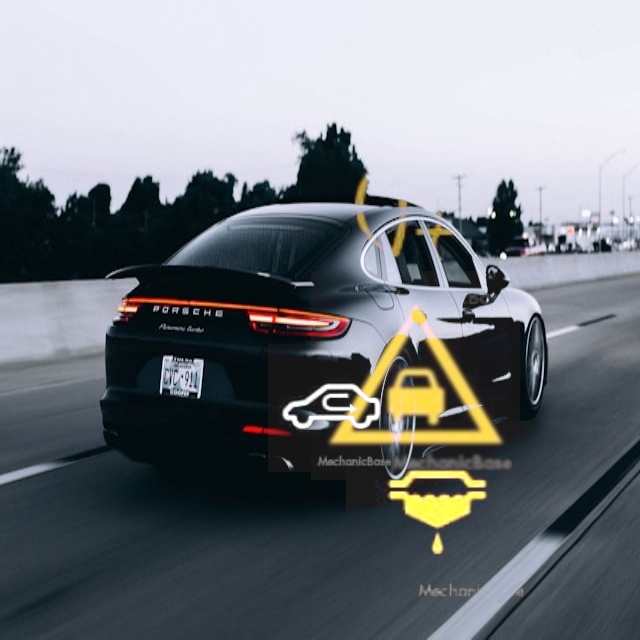symbol: (301, 99, 517, 315), (311, 271, 520, 480), (346, 421, 531, 606), (268, 344, 396, 472)
